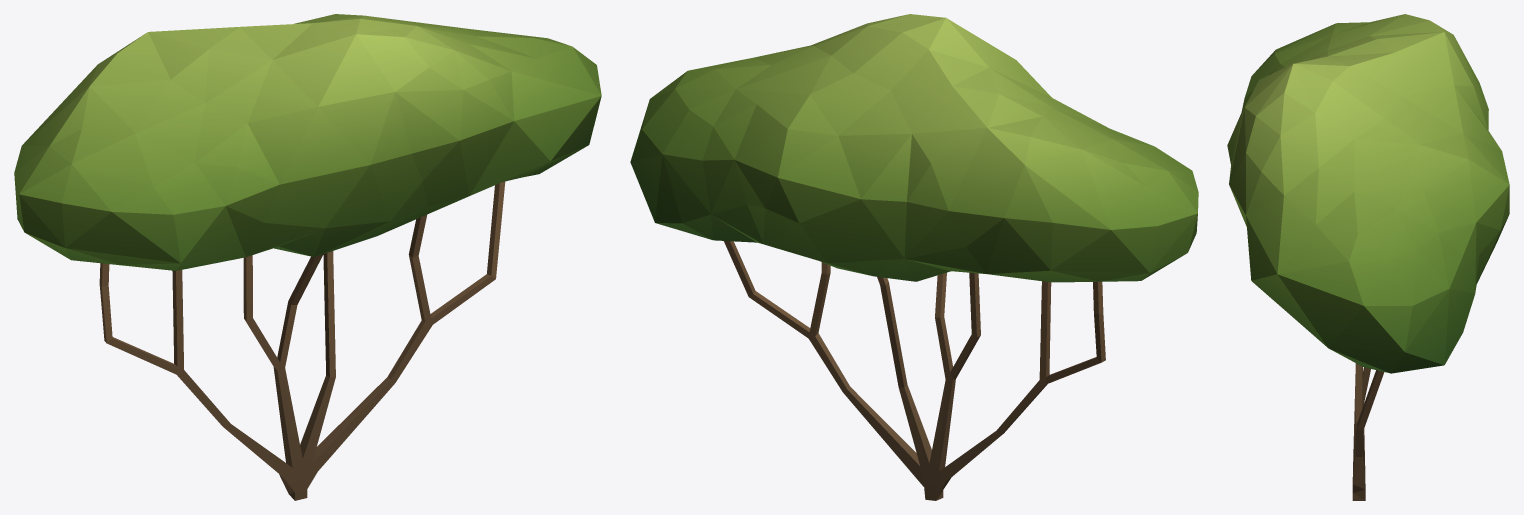
The model's file is Summer_Plant_03.glb.
The picture shows the model from 3 angles, left to right: view 1: azimuth 30°, elevation 25°; view 2: azimuth 150°, elevation 25°; view 3: azimuth 270°, elevation 25°; orthographic projection. The views are drawn at different scales.
Visible parts, largest first — view 1: Summer_Plant_03_LOD0; view 2: Summer_Plant_03_LOD0; view 3: Summer_Plant_03_LOD0.
Part boxes in pixels (x1,y1,x2,y2): Summer_Plant_03_LOD0: (14,14,601,500); Summer_Plant_03_LOD0: (630,14,1198,500); Summer_Plant_03_LOD0: (1227,14,1509,500).
Size of what is drawn, in the model's own units: 1.82 by 1.44 by 0.8294.
1 material, 1 textured.
